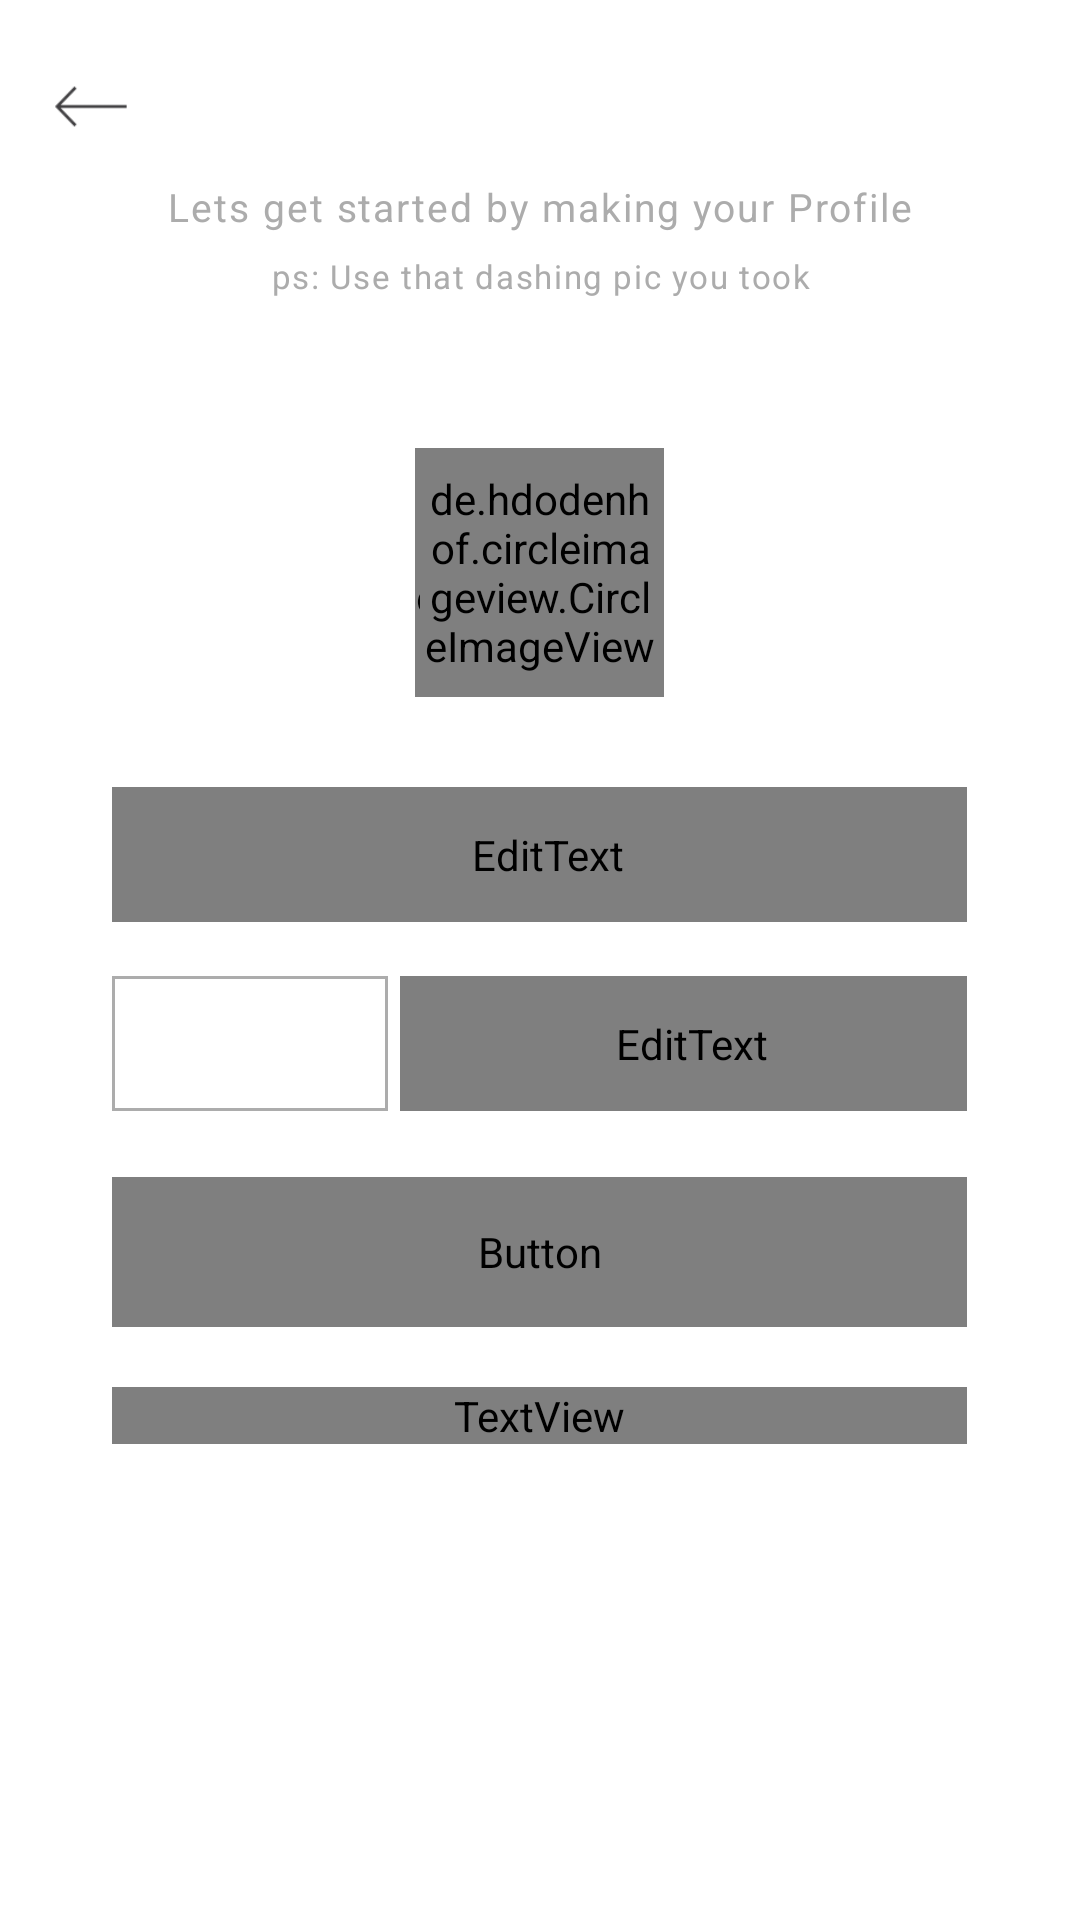

Point at icon controls on the screen. Image size 1080×1920, points as point (x, y).
back: point (91, 106)
